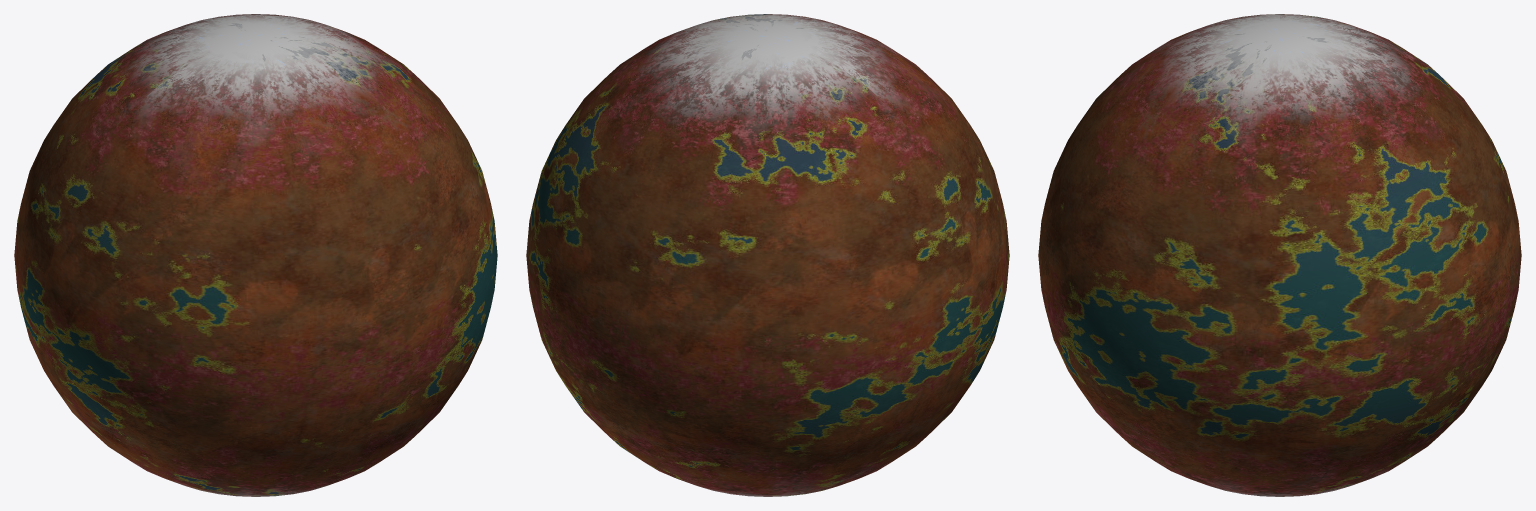
Rendered from redplanet.fbx.
3 renders of one model, left to right at view 1: azimuth 30°, elevation 25°; view 2: azimuth 150°, elevation 25°; view 3: azimuth 270°, elevation 25°, orthographic.
Visible parts, largest first — view 1: Object_0; view 2: Object_0; view 3: Object_0.
Boxes of the visible parts, bbox=[...] form: Object_0: bbox=[14, 14, 497, 496]; Object_0: bbox=[526, 14, 1009, 496]; Object_0: bbox=[1038, 14, 1521, 496].
Bounding box in the file's own units: 1018 × 1018 × 1018.
